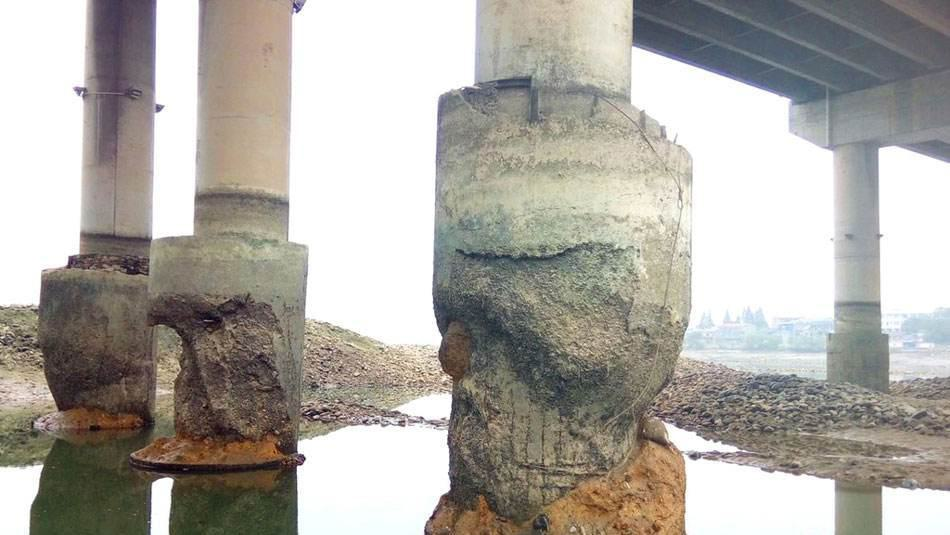Corrosion: (424, 438, 687, 535), (130, 436, 289, 465), (33, 403, 145, 429), (437, 320, 475, 381)
Spalling: (422, 243, 689, 535), (129, 295, 299, 465), (32, 314, 157, 431)
